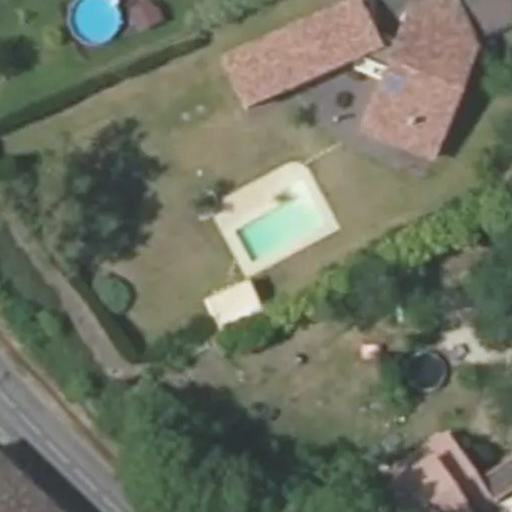pool: (204, 234, 302, 249)
